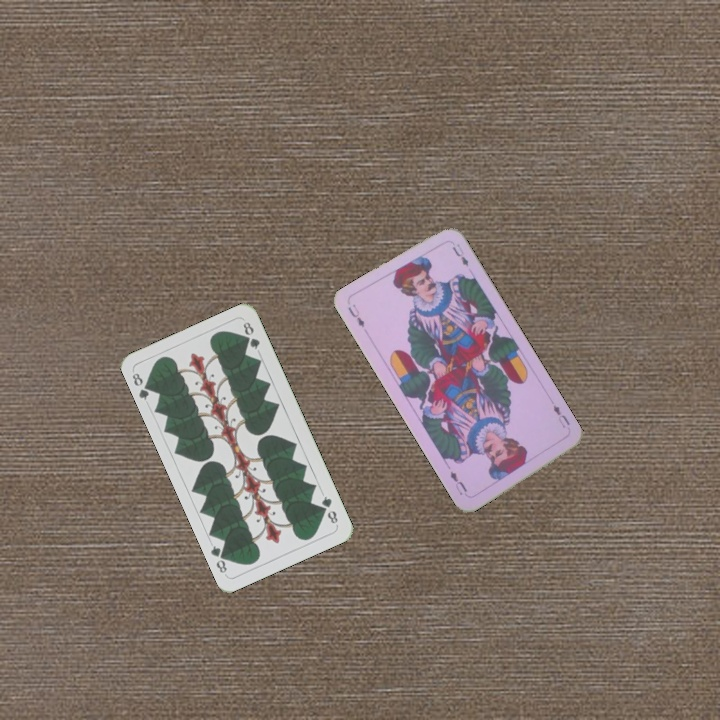EU: (549, 401, 573, 431), (344, 300, 367, 330)
G8: (128, 369, 155, 403), (317, 492, 341, 526)
